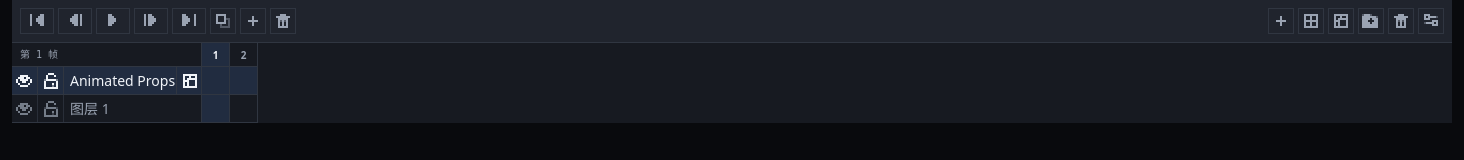
LayersPanel Free Tile instances › shows only the instances from the outer Free Tile layer active frame
Click the button with class "layer-tilemap-indicator". click: x=190, y=80
box: [179,70,201,92]
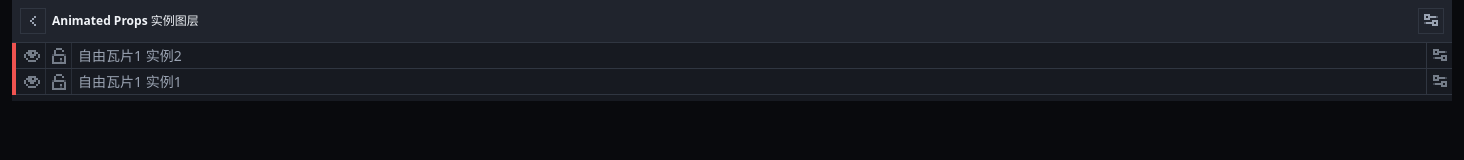
Expected: the element with class "layer-animation-grid" is gone
Expected: the option "自由瓦片1 实例1" is shown, [12,69,1452,95]
Expected: the option "自由瓦片1 实例2" is shown, [12,43,1452,69]
